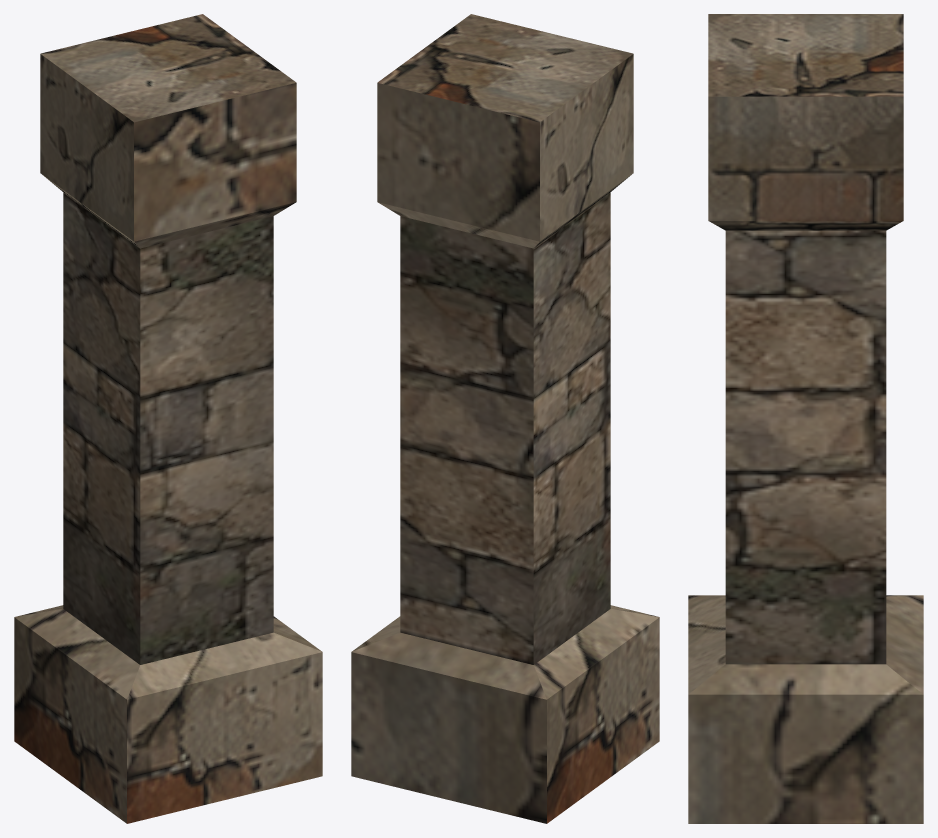
The model's file is fence_3.fbx.
3 views of the same model, side by side, from view 1: azimuth 30°, elevation 25°; view 2: azimuth 150°, elevation 25°; view 3: azimuth 270°, elevation 25° (orthographic). The views are drawn at different scales.
Visible parts, largest first — view 1: fence_3; view 2: fence_3; view 3: fence_3.
Boxes of the visible parts, x1,y1,x2,y2 form: fence_3: (14,14,322,823); fence_3: (351,14,659,823); fence_3: (688,14,923,823).
Bounding box in the file's own units: 1.03 × 3.46 × 1.03.
